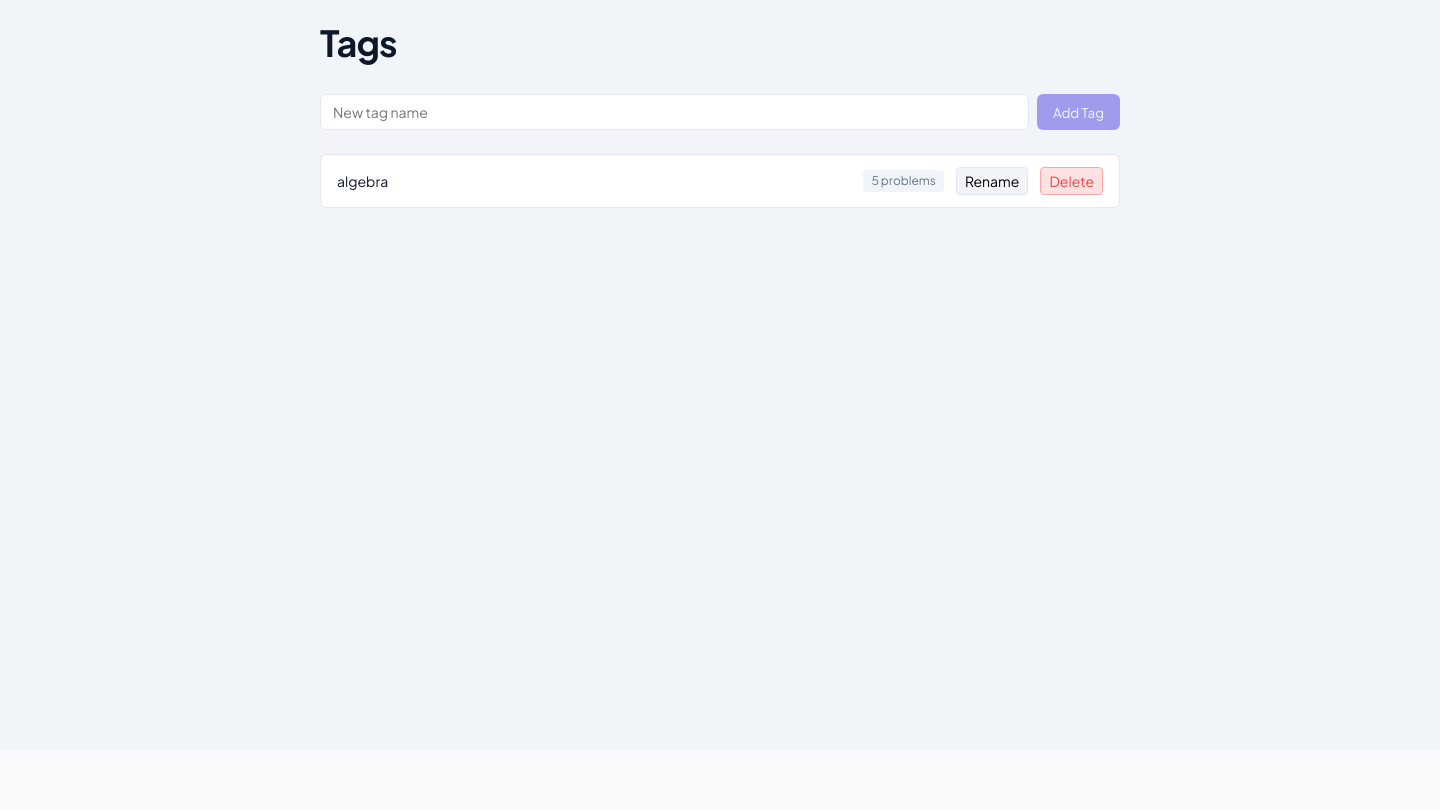
Test: TagsPage › cancels delete confirmation
Check: the text "algebra" is shown, box [337,172,388,190]
Click the button with test id "delete-tag-button-t1".
click(1072, 181)  # box [1040,167,1103,195]
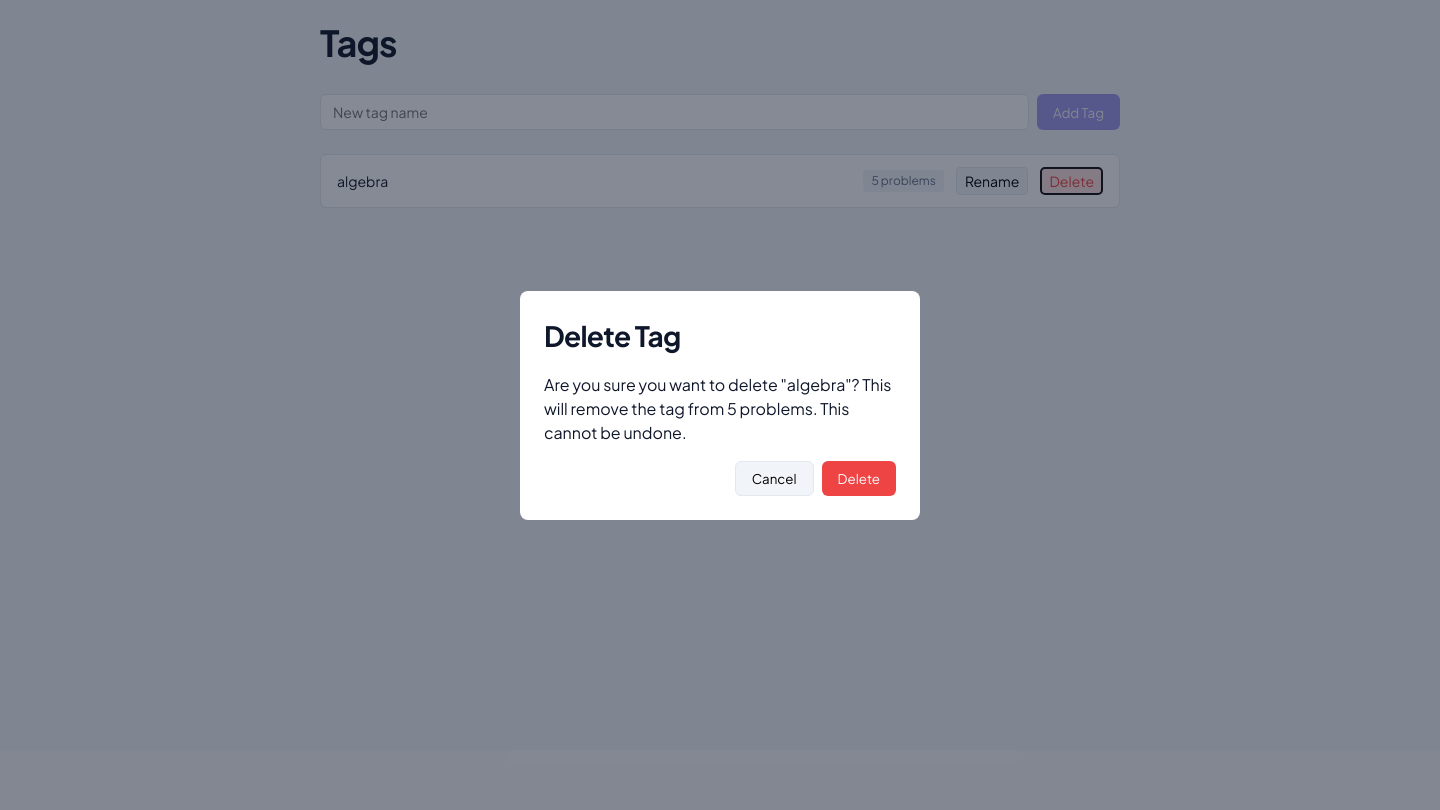
Check: the dialog with test id "delete-confirm-modal" is shown
Click the button "Cancel".
click(774, 478)  # box [735,460,814,496]
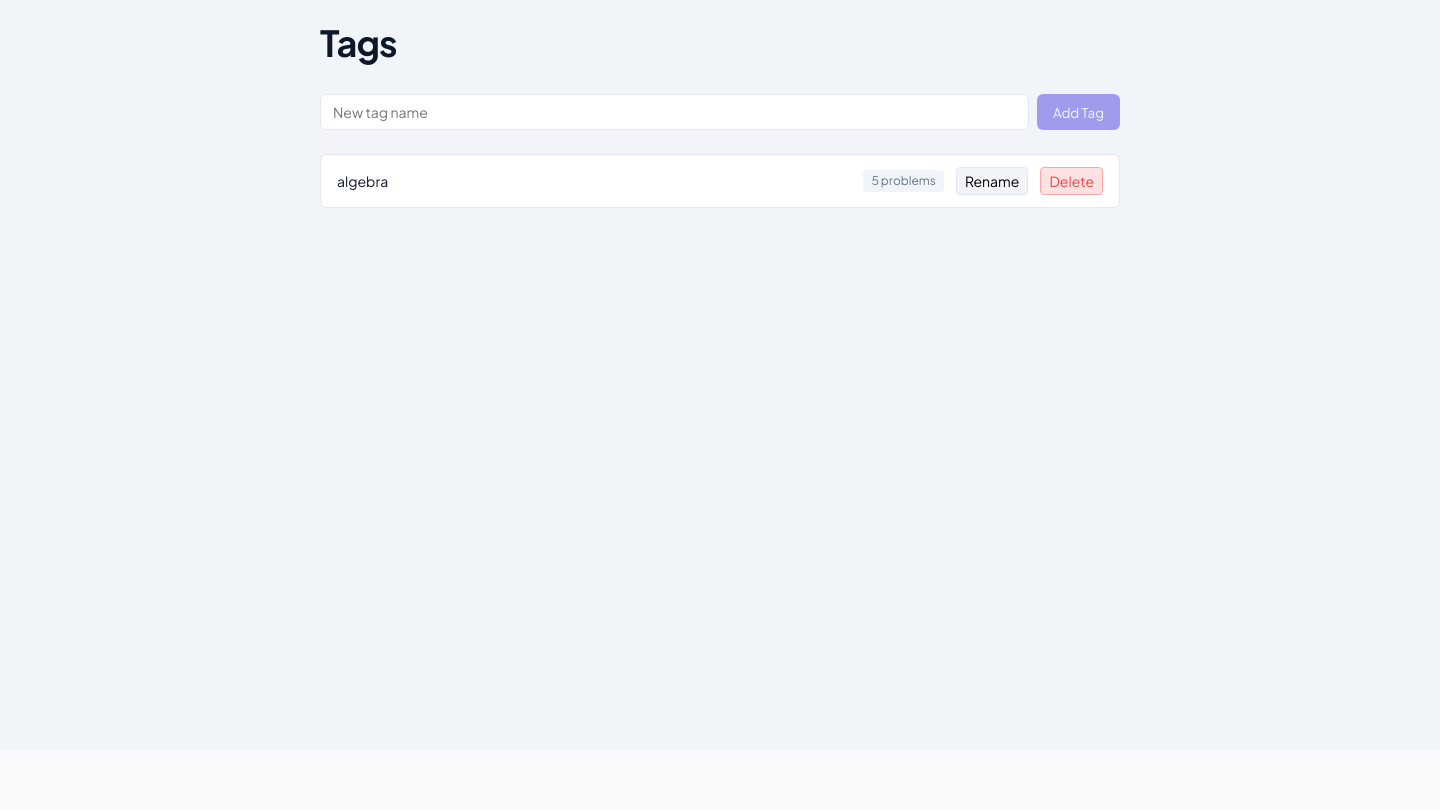
Check: the text "algebra" is shown, box [337,172,388,190]
Check: the dialog with test id "delete-confirm-modal" is gone
